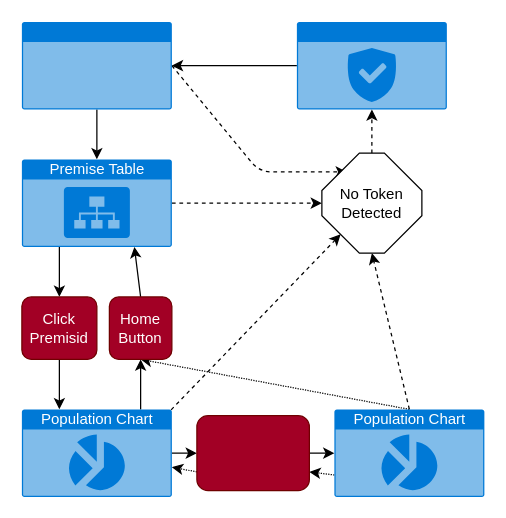
Some shapes in this 506 by 518 pixel diagram are drawn without their labels. Here are the shapes that lost their labels. From the top down, the box of each, then its label:
(21, 21, 171, 109): Home
(296, 21, 446, 109): Log In
(196, 414, 309, 491): Click on link to an outgoing or incoming population
